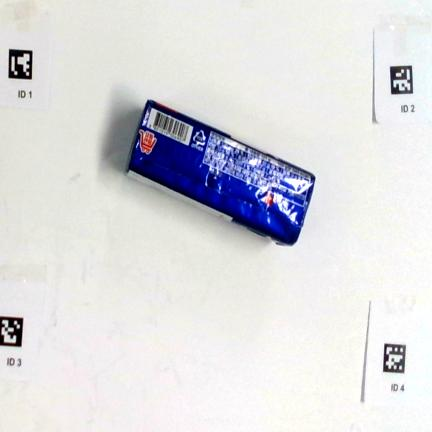cracker_ace: (126, 99, 316, 247)
